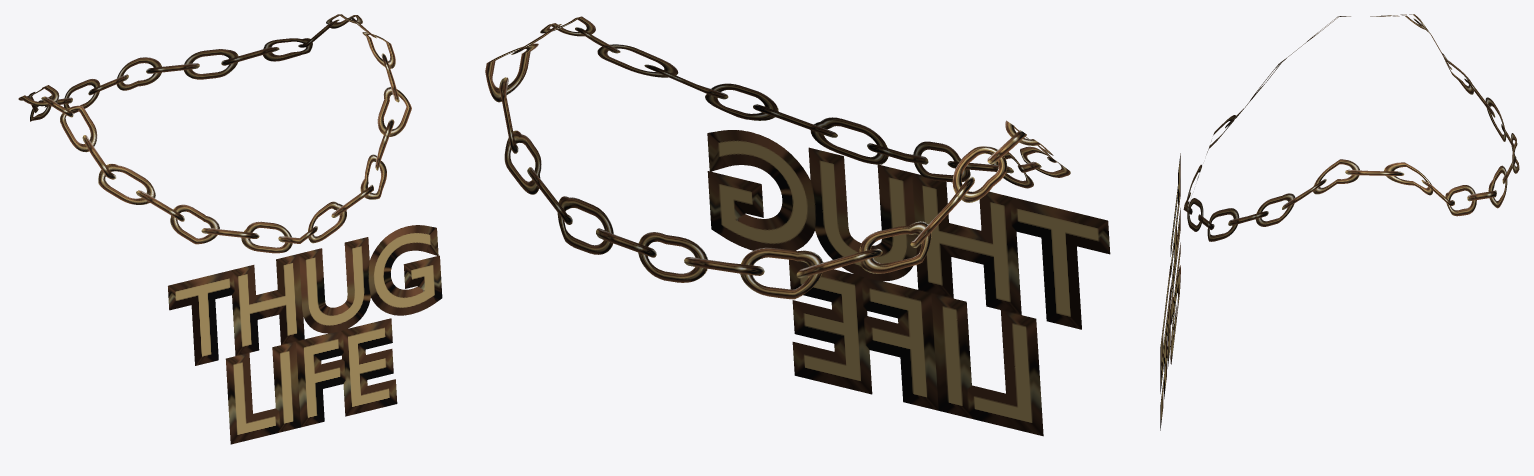
File: chain.fbx
3 renders of one model, left to right at view 1: azimuth 30°, elevation 25°; view 2: azimuth 150°, elevation 25°; view 3: azimuth 270°, elevation 25°, orthographic. The views are drawn at different scales.
Visible parts, largest first — view 1: Plane.001; view 2: Plane.001; view 3: Plane.001.
Boxes of the visible parts, left/top/right/bottom form: Plane.001: left=18, top=14, right=442, bottom=444; Plane.001: left=485, top=16, right=1110, bottom=436; Plane.001: left=1160, top=14, right=1519, bottom=430.
Size of the model in its own units: 278 by 227 by 241.
Materials: 1 (1 with a texture image).
